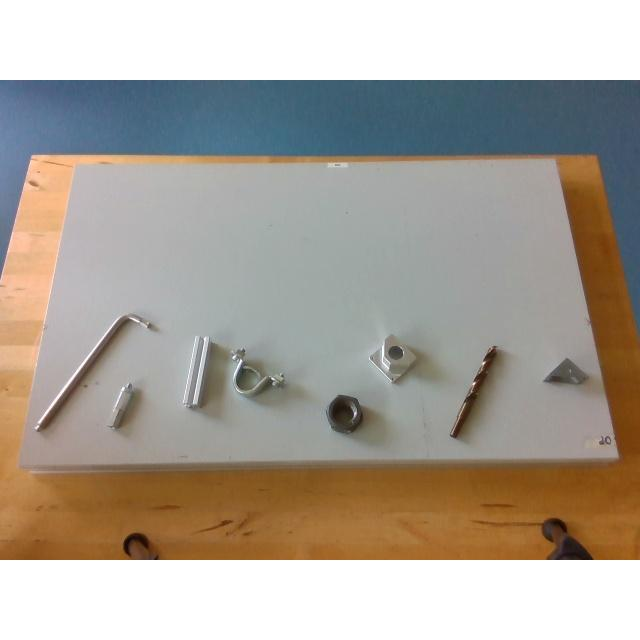AllenKey: (34, 311, 150, 433)
Drill: (448, 345, 498, 439)
F20_20_G: (183, 334, 209, 406)
Housing: (230, 350, 284, 394)
M30: (327, 394, 363, 431)
